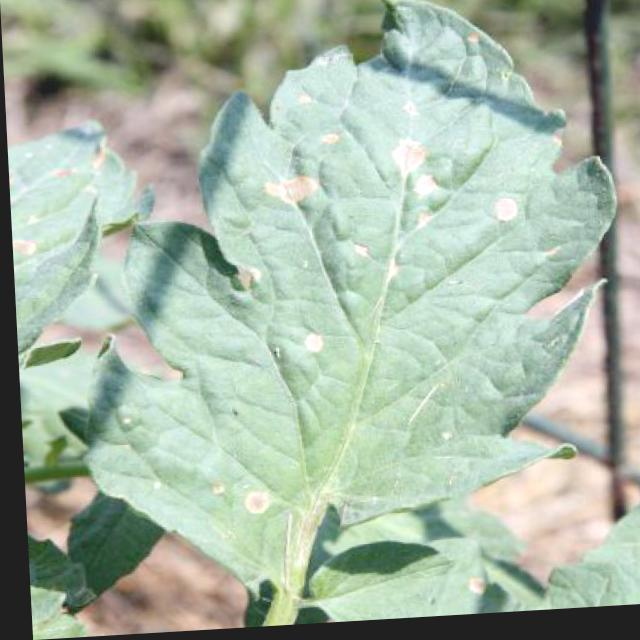Tomato late blight leaf: (68, 0, 634, 609)
